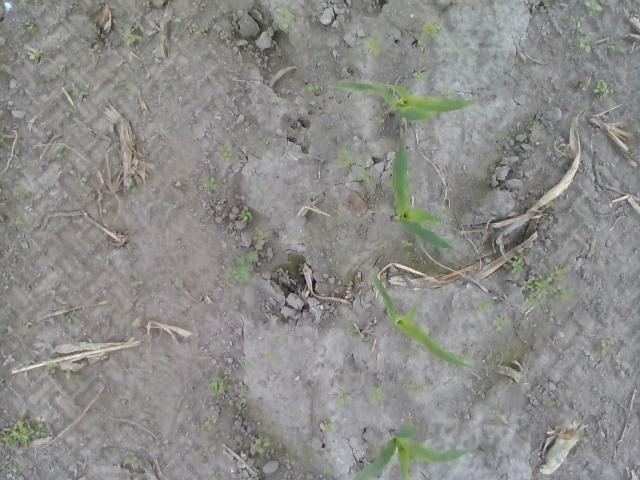Maize: (368, 270, 478, 369), (390, 142, 456, 252), (351, 425, 477, 480), (329, 79, 482, 122)
Weeds: (511, 253, 578, 308), (0, 414, 48, 450), (222, 250, 257, 288), (274, 5, 296, 29), (419, 19, 442, 39), (336, 144, 354, 168), (251, 227, 272, 246), (206, 377, 226, 396), (120, 29, 140, 48), (576, 33, 593, 55), (250, 436, 270, 454), (614, 358, 632, 378), (216, 143, 236, 161), (469, 298, 493, 312), (594, 80, 612, 98), (353, 168, 376, 182), (29, 48, 49, 64), (366, 36, 382, 56), (495, 315, 513, 332), (584, 0, 604, 15), (13, 184, 34, 198), (368, 386, 385, 402), (408, 380, 424, 397), (198, 446, 220, 458), (238, 206, 254, 222), (202, 176, 220, 190), (24, 19, 40, 34), (412, 69, 432, 81), (128, 455, 144, 470), (335, 392, 349, 408), (600, 338, 612, 356), (48, 357, 60, 375), (569, 14, 584, 28), (238, 384, 248, 405), (55, 144, 68, 160), (72, 87, 89, 98), (89, 41, 103, 54), (578, 79, 592, 92), (344, 322, 354, 339), (63, 314, 80, 324), (59, 58, 73, 70), (399, 236, 413, 248), (128, 180, 140, 193), (146, 442, 160, 453), (542, 398, 557, 408), (102, 447, 118, 456), (307, 84, 321, 94), (418, 40, 428, 54), (208, 416, 218, 430), (63, 111, 82, 118), (6, 463, 18, 474), (439, 84, 450, 96), (274, 332, 287, 342), (321, 465, 333, 475), (376, 114, 386, 126), (323, 422, 335, 432), (76, 176, 88, 186), (616, 44, 626, 56), (458, 47, 472, 55), (64, 371, 76, 380), (261, 136, 272, 145), (14, 215, 25, 224), (596, 162, 608, 170), (244, 360, 256, 368), (584, 220, 593, 230), (548, 200, 558, 209), (24, 320, 34, 329), (263, 352, 274, 360), (490, 406, 497, 418), (345, 281, 354, 290), (192, 22, 200, 32), (39, 248, 49, 256), (159, 351, 168, 359), (175, 16, 182, 24), (259, 191, 267, 198), (31, 378, 38, 384), (408, 415, 413, 423), (522, 314, 528, 320), (442, 206, 448, 212)
